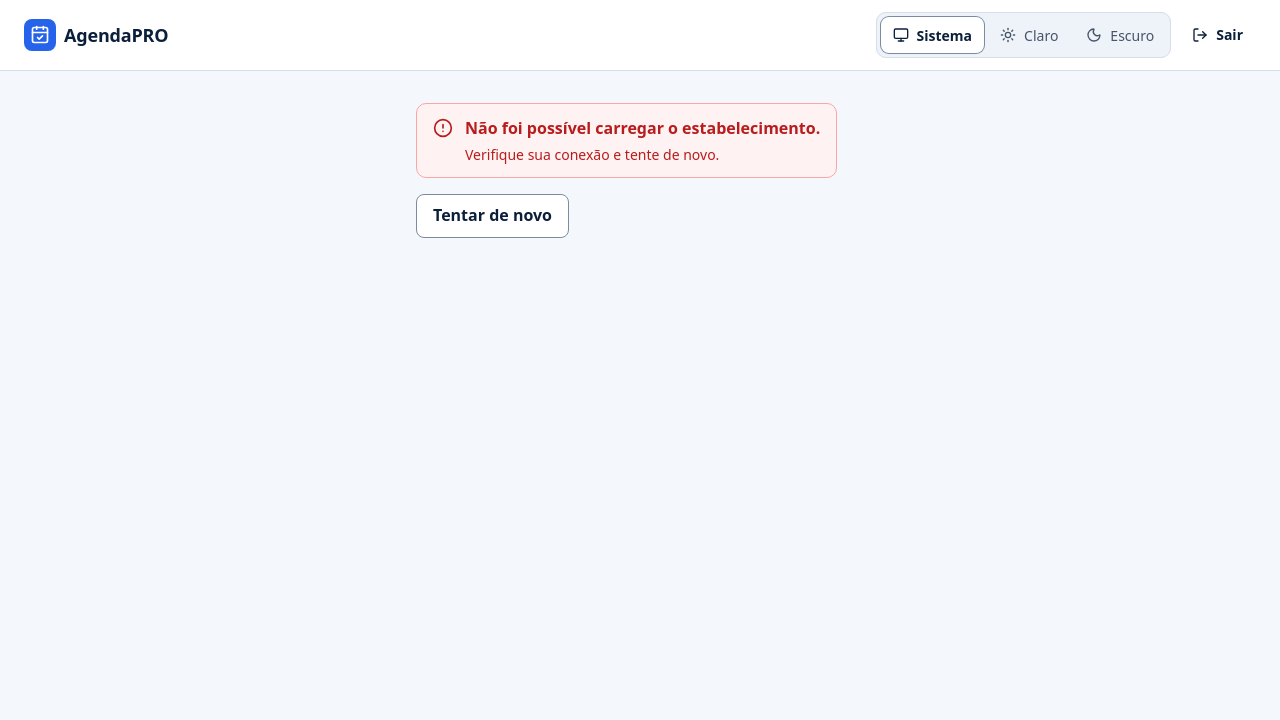
Scenario: App › mostra erro com opção de tentar de novo quando o carregamento falha
The image size is (1280, 720).
Click the button "Tentar de novo".
click(492, 216)  # box [416,194,569,238]
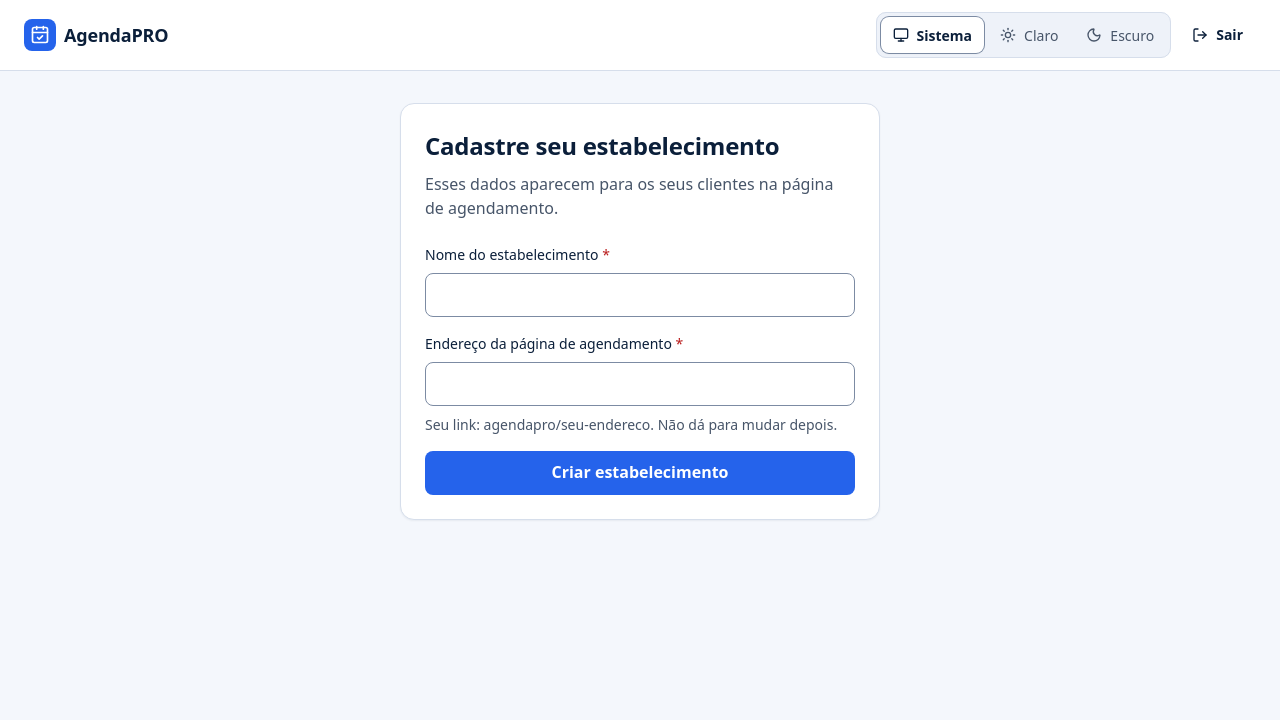
Now the heading "Cadastre seu estabelecimento" is shown, box [425,129,779,162]
